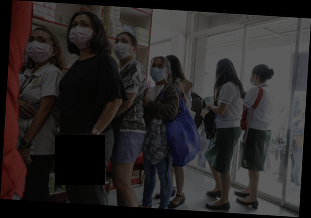with_mask: (26, 33, 54, 64), (67, 19, 95, 50), (113, 37, 132, 60), (149, 62, 167, 83), (249, 72, 259, 88)
